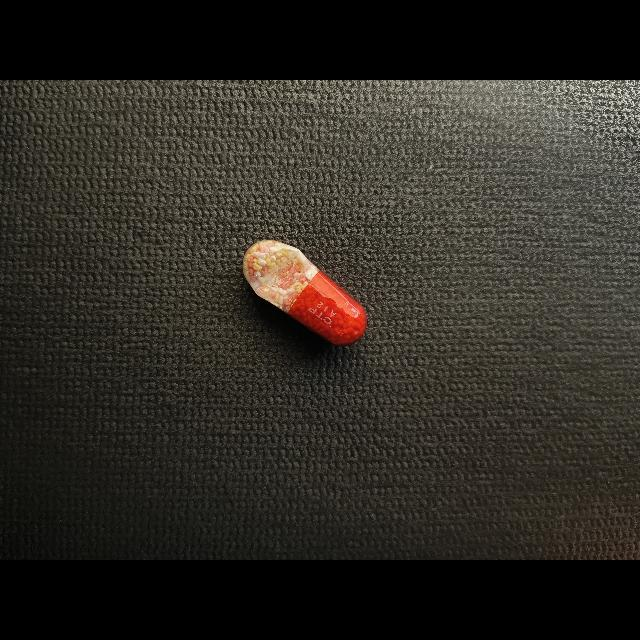Defective Capsule: (243, 239, 367, 345)
